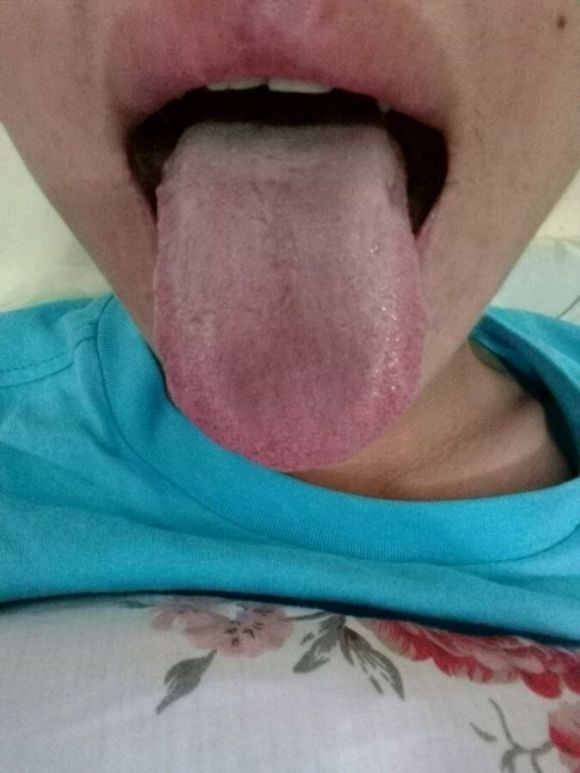baitaishe: (153, 121, 426, 471)
